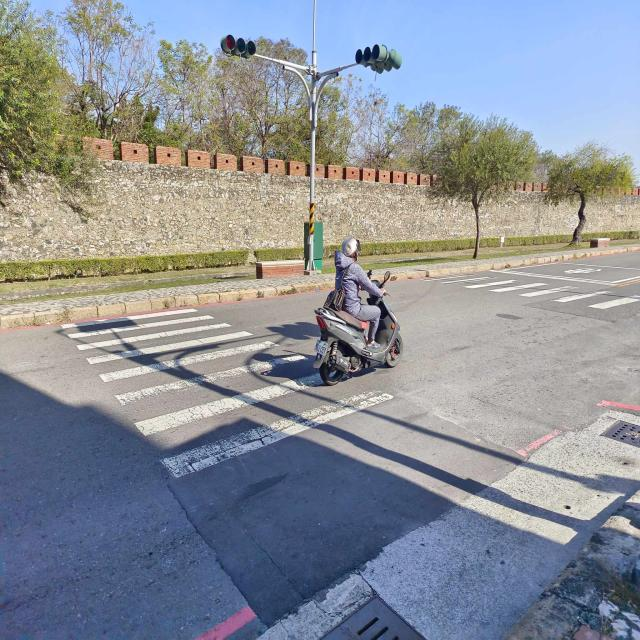zebra_crossing: (188, 174, 562, 508), (166, 197, 489, 581)
